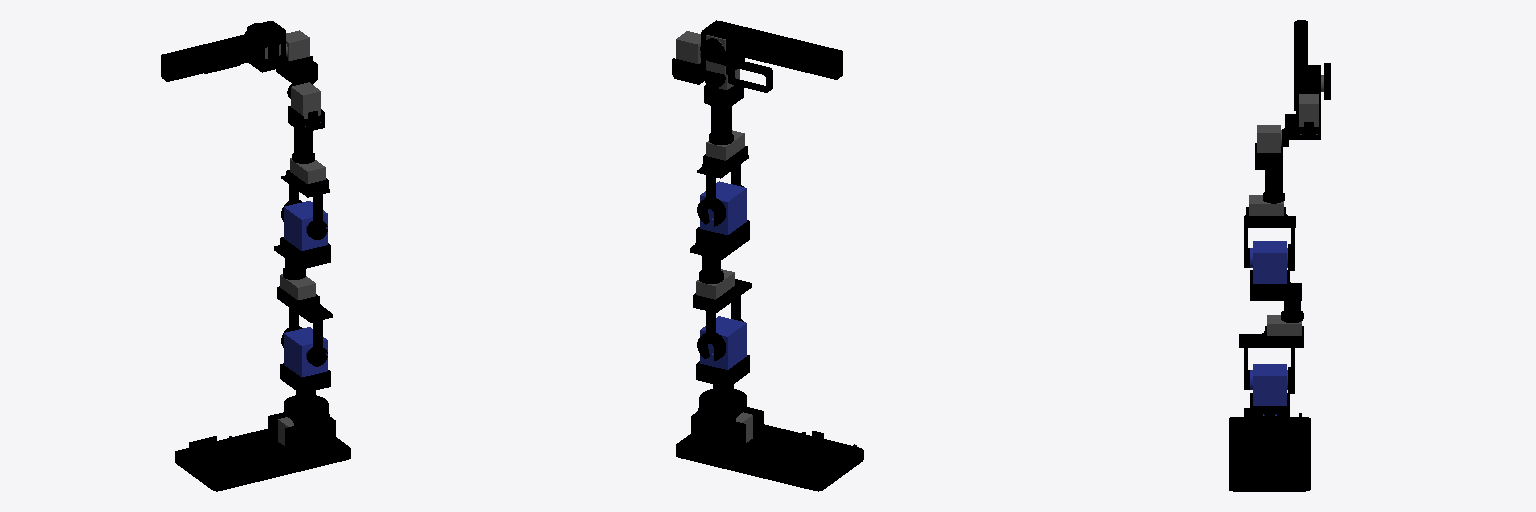
robot.urdf — flexivv3_jointconfig:
<!--URDF generated by ONSHAPE BY PTC INC, 1.216-->
<robot name="flexivv3_jointconfig">
    <link name="body1">
        <inertial>
            <mass value="0.000152053" />
            <origin xyz="0.0103434 4.77673e-05 0.0112383" rpy="0 -0 0" />
            <inertia ixx="9.13518e-08" ixy="3.49455e-10" ixz="-3.19128e-08" iyy="3.17149e-07" iyz="-2.73223e-11" izz="3.73967e-07" />
        </inertial>
        <visual>
            <origin xyz="0 0 0" rpy="0 -0 0" />
            <geometry>
                <mesh filename="meshes/Body1.stl" scale="1 1 1" />
            </geometry>
            <material name="0.000000_0.000000_0.000000_0.000000_0.000000">
                <color rgba="0 0 0 1" />
            </material>
        </visual>
    </link>
    <link name="body15">
        <inertial>
            <mass value="1.32415e-05" />
            <origin xyz="-6.20267e-12 -0.00170197 0.0258604" rpy="0 -0 0" />
            <inertia ixx="3.63458e-09" ixy="0" ixz="0" iyy="3.50215e-09" iyz="3.33154e-10" izz="1.2069e-09" />
        </inertial>
        <visual>
            <origin xyz="-0.047 -0.00405 -0.3028" rpy="0 -0 0" />
            <geometry>
                <mesh filename="meshes/Body15.stl" scale="1 1 1" />
            </geometry>
            <material name="0.000000_0.000000_0.000000_0.000000_0.000000">
                <color rgba="0 0 0 1" />
            </material>
        </visual>
    </link>
    <link name="body18">
        <inertial>
            <mass value="9.15086e-06" />
            <origin xyz="0.00778366 0.0153945 0.0122774" rpy="0 -0 0" />
            <inertia ixx="1.81764e-09" ixy="-1.57017e-10" ixz="-1.29431e-10" iyy="1.22883e-09" iyz="-3.09409e-10" izz="2.01783e-09" />
        </inertial>
        <visual>
            <origin xyz="-0.047 -0.01405 -0.3661" rpy="0 -0 0" />
            <geometry>
                <mesh filename="meshes/Body18.stl" scale="1 1 1" />
            </geometry>
            <material name="0.000000_0.000000_0.000000_0.000000_0.000000">
                <color rgba="0 0 0 1" />
            </material>
        </visual>
    </link>
    <link name="body1__1_">
        <inertial>
            <mass value="4.70413e-05" />
            <origin xyz="-0.0633889 -0.00617929 0.0121865" rpy="0 -0 0" />
            <inertia ixx="5.22868e-09" ixy="-2.97136e-09" ixz="2.95655e-09" iyy="7.27774e-08" iyz="1.34302e-10" izz="7.06699e-08" />
        </inertial>
        <visual>
            <origin xyz="-0.041 -0.0395051 -0.402495" rpy="0 -0 0" />
            <geometry>
                <mesh filename="meshes/Body1__1_.stl" scale="1 1 1" />
            </geometry>
            <material name="0.000000_0.000000_0.000000_0.000000_0.000000">
                <color rgba="0 0 0 1" />
            </material>
        </visual>
    </link>
    <link name="body1__2_">
        <inertial>
            <mass value="5.07187e-06" />
            <origin xyz="0.00116976 0.0581764 0.405204" rpy="0 -0 0" />
            <inertia ixx="4.8292e-10" ixy="-2.68523e-11" ixz="-5.99482e-10" iyy="2.67717e-09" iyz="-1.04251e-11" izz="2.23317e-09" />
        </inertial>
        <visual>
            <origin xyz="0 0 0" rpy="0 -0 0" />
            <geometry>
                <mesh filename="meshes/Body1__2_.stl" scale="1 1 1" />
            </geometry>
            <material name="0.000000_0.000000_0.000000_0.000000_0.000000">
                <color rgba="0 0 0 1" />
            </material>
        </visual>
    </link>
    <link name="body2">
        <inertial>
            <mass value="4.55346e-05" />
            <origin xyz="0.047 0.000298814 0.0945765" rpy="0 -0 0" />
            <inertia ixx="1.28348e-08" ixy="0" ixz="0" iyy="1.11784e-08" iyz="-2.59471e-11" izz="7.73884e-09" />
        </inertial>
        <visual>
            <origin xyz="0 0 0" rpy="0 -0 0" />
            <geometry>
                <mesh filename="meshes/Body2.stl" scale="1 1 1" />
            </geometry>
            <material name="0.188235_0.231373_0.588235_0.000000_0.000000">
                <color rgba="0.188235 0.231373 0.588235 1" />
            </material>
        </visual>
    </link>
    <link name="body2__1_">
        <inertial>
            <mass value="4.55346e-05" />
            <origin xyz="0.047 0.000298814 0.226077" rpy="0 -0 0" />
            <inertia ixx="1.28348e-08" ixy="0" ixz="0" iyy="1.11784e-08" iyz="-2.59471e-11" izz="7.73884e-09" />
        </inertial>
        <visual>
            <origin xyz="0 0 0" rpy="0 -0 0" />
            <geometry>
                <mesh filename="meshes/Body2__1_.stl" scale="1 1 1" />
            </geometry>
            <material name="0.188235_0.231373_0.588235_0.000000_0.000000">
                <color rgba="0.188235 0.231373 0.588235 1" />
            </material>
        </visual>
    </link>
    <link name="body4">
        <inertial>
            <mass value="1.41837e-05" />
            <origin xyz="2.70892e-06 2.70892e-06 0.0263305" rpy="0 -0 0" />
            <inertia ixx="3.94161e-09" ixy="1.02189e-15" ixz="2.81656e-13" iyy="3.67635e-09" iyz="2.81656e-13" izz="2.33783e-09" />
        </inertial>
        <visual>
            <origin xyz="-0.047 -0.00025 -0.036" rpy="0 -0 0" />
            <geometry>
                <mesh filename="meshes/Body4.stl" scale="1 1 1" />
            </geometry>
            <material name="0.000000_0.000000_0.000000_0.000000_0.000000">
                <color rgba="0 0 0 1" />
            </material>
        </visual>
    </link>
    <link name="body5">
        <inertial>
            <mass value="1.59938e-05" />
            <origin xyz="0.0396659 0.00025 0.0219045" rpy="0 -0 0" />
            <inertia ixx="1.30139e-09" ixy="0" ixz="-4.74503e-11" iyy="2.30617e-09" iyz="0" izz="2.05763e-09" />
        </inertial>
        <visual>
            <origin xyz="0 0 0" rpy="0 -0 0" />
            <geometry>
                <mesh filename="meshes/Body5.stl" scale="1 1 1" />
            </geometry>
            <material name="0.349020_0.349020_0.349020_0.000000_0.000000">
                <color rgba="0.34902 0.34902 0.34902 1" />
            </material>
        </visual>
    </link>
    <link name="body5__1_">
        <inertial>
            <mass value="1.21993e-05" />
            <origin xyz="7.83905e-11 0.0204625 0.0276517" rpy="0 -0 0" />
            <inertia ixx="9.85124e-09" ixy="0" ixz="0" iyy="5.3798e-09" iyz="-1.8051e-10" izz="5.65859e-09" />
        </inertial>
        <visual>
            <origin xyz="-0.047 0.01875 -0.10625" rpy="0 -0 0" />
            <geometry>
                <mesh filename="meshes/Body5__1_.stl" scale="1 1 1" />
            </geometry>
            <material name="0.000000_0.000000_0.000000_0.000000_0.000000">
                <color rgba="0 0 0 1" />
            </material>
        </visual>
    </link>
    <link name="body5__1___1_">
        <inertial>
            <mass value="1.59938e-05" />
            <origin xyz="0.047 0.0146159 0.160405" rpy="0 -0 0" />
            <inertia ixx="2.30617e-09" ixy="0" ixz="0" iyy="1.30139e-09" iyz="-4.74503e-11" izz="2.05763e-09" />
        </inertial>
        <visual>
            <origin xyz="0 0 0" rpy="0 -0 0" />
            <geometry>
                <mesh filename="meshes/Body5__1___1_.stl" scale="1 1 1" />
            </geometry>
            <material name="0.349020_0.349020_0.349020_0.000000_0.000000">
                <color rgba="0.34902 0.34902 0.34902 1" />
            </material>
        </visual>
    </link>
    <link name="body5__1___1___1_">
        <inertial>
            <mass value="1.00941e-05" />
            <origin xyz="8.05687e-11 0.0189145 0.0231668" rpy="0 -0 0" />
            <inertia ixx="7.32841e-09" ixy="0" ixz="0" iyy="4.19114e-09" iyz="2.64488e-10" izz="4.14209e-09" />
        </inertial>
        <visual>
            <origin xyz="-0.047 0.01875 -0.23775" rpy="0 -0 0" />
            <geometry>
                <mesh filename="meshes/Body5__1___1___1_.stl" scale="1 1 1" />
            </geometry>
            <material name="0.000000_0.000000_0.000000_0.000000_0.000000">
                <color rgba="0 0 0 1" />
            </material>
        </visual>
    </link>
    <link name="body5__1___1___1___2_">
        <inertial>
            <mass value="1.59938e-05" />
            <origin xyz="0.047 -0.00328409 0.288705" rpy="0 -0 0" />
            <inertia ixx="2.30617e-09" ixy="0" ixz="0" iyy="1.30139e-09" iyz="-4.74503e-11" izz="2.05763e-09" />
        </inertial>
        <visual>
            <origin xyz="0 0 0" rpy="0 -0 0" />
            <geometry>
                <mesh filename="meshes/Body5__1___1___1___2_.stl" scale="1 1 1" />
            </geometry>
            <material name="0.349020_0.349020_0.349020_0.000000_0.000000">
                <color rgba="0.34902 0.34902 0.34902 1" />
            </material>
        </visual>
    </link>
    <link name="body5__1___1___1___2___1_">
        <inertial>
            <mass value="1.59938e-05" />
            <origin xyz="0.047 -4.54792e-05 0.358766" rpy="0 -0 0" />
            <inertia ixx="2.30617e-09" ixy="0" ixz="0" iyy="2.05763e-09" iyz="-4.74503e-11" izz="1.30139e-09" />
        </inertial>
        <visual>
            <origin xyz="0 0 0" rpy="0 -0 0" />
            <geometry>
                <mesh filename="meshes/Body5__1___1___1___2___1_.stl" scale="1 1 1" />
            </geometry>
            <material name="0.349020_0.349020_0.349020_0.000000_0.000000">
                <color rgba="0.34902 0.34902 0.34902 1" />
            </material>
        </visual>
    </link>
    <link name="body5__1___1___1___2___1___1_">
        <inertial>
            <mass value="1.59938e-05" />
            <origin xyz="0.0560955 0.03805 0.395366" rpy="0 -0 0" />
            <inertia ixx="2.05763e-09" ixy="0" ixz="4.74503e-11" iyy="2.30617e-09" iyz="0" izz="1.30139e-09" />
        </inertial>
        <visual>
            <origin xyz="0 0 0" rpy="0 -0 0" />
            <geometry>
                <mesh filename="meshes/Body5__1___1___1___2___1___1_.stl" scale="1 1 1" />
            </geometry>
            <material name="0.349020_0.349020_0.349020_0.000000_0.000000">
                <color rgba="0.34902 0.34902 0.34902 1" />
            </material>
        </visual>
    </link>
    <link name="body5__1__loop_closure">
        <inertial>
            <mass value="1e-09" />
            <origin xyz="0 0 0" rpy="0 -0 0" />
            <inertia ixx="4e-14" ixy="0" ixz="0" iyy="4e-14" iyz="0" izz="4e-14" />
        </inertial>
    </link>
    <link name="body5__2_">
        <inertial>
            <mass value="1.59938e-05" />
            <origin xyz="0.02525 0.0404097 0.407161" rpy="0 -0 0" />
            <inertia ixx="2.30617e-09" ixy="0" ixz="0" iyy="2.05763e-09" iyz="-4.74503e-11" izz="1.30139e-09" />
        </inertial>
        <visual>
            <origin xyz="0 0 0" rpy="0 -0 0" />
            <geometry>
                <mesh filename="meshes/Body5__2_.stl" scale="1 1 1" />
            </geometry>
            <material name="0.349020_0.349020_0.349020_0.000000_0.000000">
                <color rgba="0.34902 0.34902 0.34902 1" />
            </material>
        </visual>
    </link>
    <link name="body9">
        <inertial>
            <mass value="1.58087e-05" />
            <origin xyz="1.85266e-07 -0.0117959 0.0227473" rpy="0 -0 0" />
            <inertia ixx="5.43666e-09" ixy="-2.43525e-14" ixz="-1.44396e-14" iyy="3.2553e-09" iyz="1.34292e-09" izz="4.90209e-09" />
        </inertial>
        <visual>
            <origin xyz="-0.047 -0.02195 -0.1745" rpy="0 -0 0" />
            <geometry>
                <mesh filename="meshes/Body9.stl" scale="1 1 1" />
            </geometry>
            <material name="0.000000_0.000000_0.000000_0.000000_0.000000">
                <color rgba="0 0 0 1" />
            </material>
        </visual>
    </link>
    <link name="root" />
    <joint name="base_link_fastened_joint_loop_closure" type="fixed">
        <origin xyz="0 0 0" rpy="0 -0 0" />
        <axis xyz="-0 -0 -1" />
        <parent link="body1" />
        <child link="body5__1__loop_closure" />
    </joint>
    <joint name="fixed_node_to_root_joint" type="fixed">
        <origin xyz="0 0 0" rpy="0 -0 0" />
        <axis xyz="0 0 1" />
        <parent link="root" />
        <child link="body5" />
    </joint>
    <joint name="fixed_node_to_root_joint_1" type="fixed">
        <origin xyz="0 0 0" rpy="0 -0 0" />
        <axis xyz="0 0 1" />
        <parent link="root" />
        <child link="body1" />
    </joint>
    <joint name="link_1_fastened_joint" type="fixed">
        <origin xyz="-0.047 -0.00025 -0.036" rpy="0 -0 0" />
        <axis xyz="-0 -0 -1" />
        <parent link="body4" />
        <child link="body2" />
    </joint>
    <joint name="link_2_fastened_joint" type="fixed">
        <origin xyz="-0.047 0.01875 -0.10625" rpy="0 -0 0" />
        <axis xyz="-0 -0 -1" />
        <parent link="body5__1_" />
        <child link="body5__1___1_" />
    </joint>
    <joint name="link_3_fastened_joint" type="fixed">
        <origin xyz="-0.047 -0.02195 -0.1745" rpy="0 -0 0" />
        <axis xyz="-0 -0 -1" />
        <parent link="body9" />
        <child link="body2__1_" />
    </joint>
    <joint name="link_4_fastened_joint" type="fixed">
        <origin xyz="-0.047 0.01875 -0.23775" rpy="0 -0 0" />
        <axis xyz="-0 -0 -1" />
        <parent link="body5__1___1___1_" />
        <child link="body5__1___1___1___2_" />
    </joint>
    <joint name="link_5_fastened_joint" type="fixed">
        <origin xyz="-0.047 -0.00405 -0.3028" rpy="0 -0 0" />
        <axis xyz="-0 -0 -1" />
        <parent link="body15" />
        <child link="body5__1___1___1___2___1_" />
    </joint>
    <joint name="link_6_fastened_joint" type="fixed">
        <origin xyz="-0.047 -0.01405 -0.3661" rpy="0 -0 0" />
        <axis xyz="0 0 1" />
        <parent link="body18" />
        <child link="body5__1___1___1___2___1___1_" />
    </joint>
    <joint name="link_7_fastened_joint" type="fixed">
        <origin xyz="0 0 0" rpy="0 -0 0" />
        <axis xyz="-0 -0 -1" />
        <parent link="body5__2_" />
        <child link="body1__2_" />
    </joint>
    <joint name="link_7_fastened_joint_1" type="fixed">
        <origin xyz="-0.041 -0.0395051 -0.402495" rpy="0 -0 0" />
        <axis xyz="-0 -0 -1" />
        <parent link="body1__1_" />
        <child link="body5__2_" />
    </joint>
    <joint name="revolute_1" type="revolute">
        <origin xyz="0.047 -0.01875 0.10625" rpy="0 -0 0" />
        <axis xyz="0 1 0" />
        <parent link="body2" />
        <child link="body5__1_" />
        <limit lower="-6.28319" upper="6.28319" effort="100" velocity="3.14" />
    </joint>
    <joint name="revolute_2" type="revolute">
        <origin xyz="0.047 0.00025 0.036" rpy="0 -0 0" />
        <axis xyz="0 0 -1" />
        <parent link="body5" />
        <child link="body4" />
        <limit lower="-6.28319" upper="6.28319" effort="100" velocity="3.14" />
    </joint>
    <joint name="revolute_3" type="revolute">
        <origin xyz="0.047 0.02195 0.1745" rpy="0 -0 0" />
        <axis xyz="0 0 -1" />
        <parent link="body5__1___1_" />
        <child link="body9" />
        <limit lower="-6.28319" upper="6.28319" effort="100" velocity="3.14" />
    </joint>
    <joint name="revolute_4" type="revolute">
        <origin xyz="0.047 -0.01875 0.23775" rpy="0 -0 0" />
        <axis xyz="0 1 0" />
        <parent link="body2__1_" />
        <child link="body5__1___1___1_" />
        <limit lower="-6.28319" upper="6.28319" effort="100" velocity="3.14" />
    </joint>
    <joint name="revolute_5" type="revolute">
        <origin xyz="0.047 0.00405 0.3028" rpy="0 -0 0" />
        <axis xyz="0 0 1" />
        <parent link="body5__1___1___1___2_" />
        <child link="body15" />
        <limit lower="-6.28319" upper="6.28319" effort="100" velocity="3.14" />
    </joint>
    <joint name="revolute_6" type="revolute">
        <origin xyz="0.047 0.01405 0.3661" rpy="0 -0 0" />
        <axis xyz="0 -1 0" />
        <parent link="body5__1___1___1___2___1_" />
        <child link="body18" />
        <limit lower="-6.28319" upper="6.28319" effort="100" velocity="3.14" />
    </joint>
    <joint name="revolute_7" type="revolute">
        <origin xyz="0.042 0.03805 0.4027" rpy="0 -0 0" />
        <axis xyz="1 0 0" />
        <parent link="body5__1___1___1___2___1___1_" />
        <child link="body1__1_" />
        <limit lower="-6.28319" upper="6.28319" effort="100" velocity="3.14" />
    </joint>
</robot>

--- Facts derived from the render (not from the file) ---
Views: 3 orthographic renders of the robot side by side, from view 1: azimuth 30°, elevation 25°; view 2: azimuth 150°, elevation 25°; view 3: azimuth 270°, elevation 25°.
Model flexivv3_jointconfig with 19 links and 18 joints (7 revolute, 11 fixed), rooted at root, posed every joint at zero.
Links seen in each view (by area): view 1: body1, body1__1_, body5__1_, body5__1___1___1_, body2, body2__1_, body9, body15, body4, body18, body5__1___1___1___2___1_, body5__1___1_ (+2 smaller); view 2: body1, body1__1_, body9, body5__1_, body5__1___1___1_, body15, body2, body2__1_, body4, body1__2_, body18, body5__1___1___1___2___1___1_ (+2 smaller); view 3: body1, body2__1_, body1__1_, body2, body9, body5__1_, body15, body5__1___1___1_, body4, body18, body5__1___1___1___2___1_, body5__1___1___1___2___1___1_ (+2 smaller).
Link boxes in pixels (box(x1,y1,x2,y2)): body1: box(175, 395, 350, 491); body1__1_: box(161, 21, 287, 81); body5__1_: box(277, 286, 332, 366); body5__1___1___1_: box(281, 170, 329, 239); body2: box(284, 327, 327, 377); body2__1_: box(284, 201, 327, 250); body9: box(274, 237, 330, 279); body15: box(288, 106, 324, 163); body4: box(280, 363, 330, 411); body18: box(276, 56, 317, 98); body5__1___1___1___2___1_: box(291, 82, 320, 126); body5__1___1_: box(280, 274, 315, 299); body1: box(676, 389, 863, 491); body1__1_: box(701, 20, 842, 79); body9: box(690, 220, 749, 283); body5__1_: box(693, 279, 751, 360); body5__1___1___1_: box(697, 146, 748, 226); body15: box(704, 85, 743, 144); body2: box(700, 316, 746, 369); body2__1_: box(700, 181, 746, 234); body4: box(696, 355, 749, 406); body1__2_: box(700, 38, 772, 92); body18: box(672, 58, 725, 88); body5__1___1___1___2___1___1_: box(676, 31, 700, 63); body1: box(1229, 408, 1310, 491); body2__1_: box(1250, 241, 1287, 283); body1__1_: box(1294, 20, 1320, 110); body2: box(1250, 364, 1287, 415); body9: box(1250, 270, 1303, 322); body5__1_: box(1239, 326, 1303, 393); body15: box(1255, 143, 1284, 203); body5__1___1___1_: box(1244, 207, 1295, 270); body4: box(1250, 393, 1289, 442); body18: box(1282, 111, 1320, 146); body5__1___1___1___2___1_: box(1257, 125, 1281, 152); body5__1___1___1___2___1___1_: box(1299, 94, 1318, 134).
Size in the robot's own frame: 0.164 by 0.1 by 0.4287 metres.
Meshes: 17 distinct files referenced, 17 mesh visuals loaded (17 binary STL).
